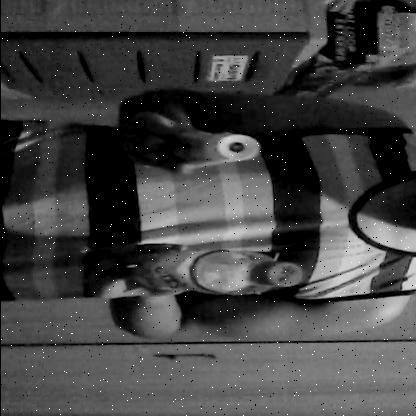Plastic Bottle: (125, 246, 316, 299)
